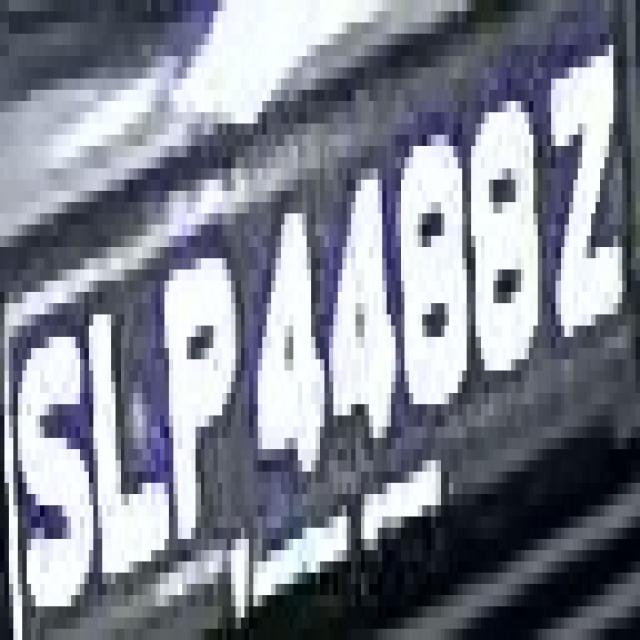4: (236, 157, 324, 539), (320, 123, 400, 506)
8: (458, 90, 551, 449), (382, 101, 467, 460)
L: (80, 281, 173, 595)
P: (156, 191, 240, 539)
S: (0, 6, 1, 12)
Z: (538, 56, 622, 337)
